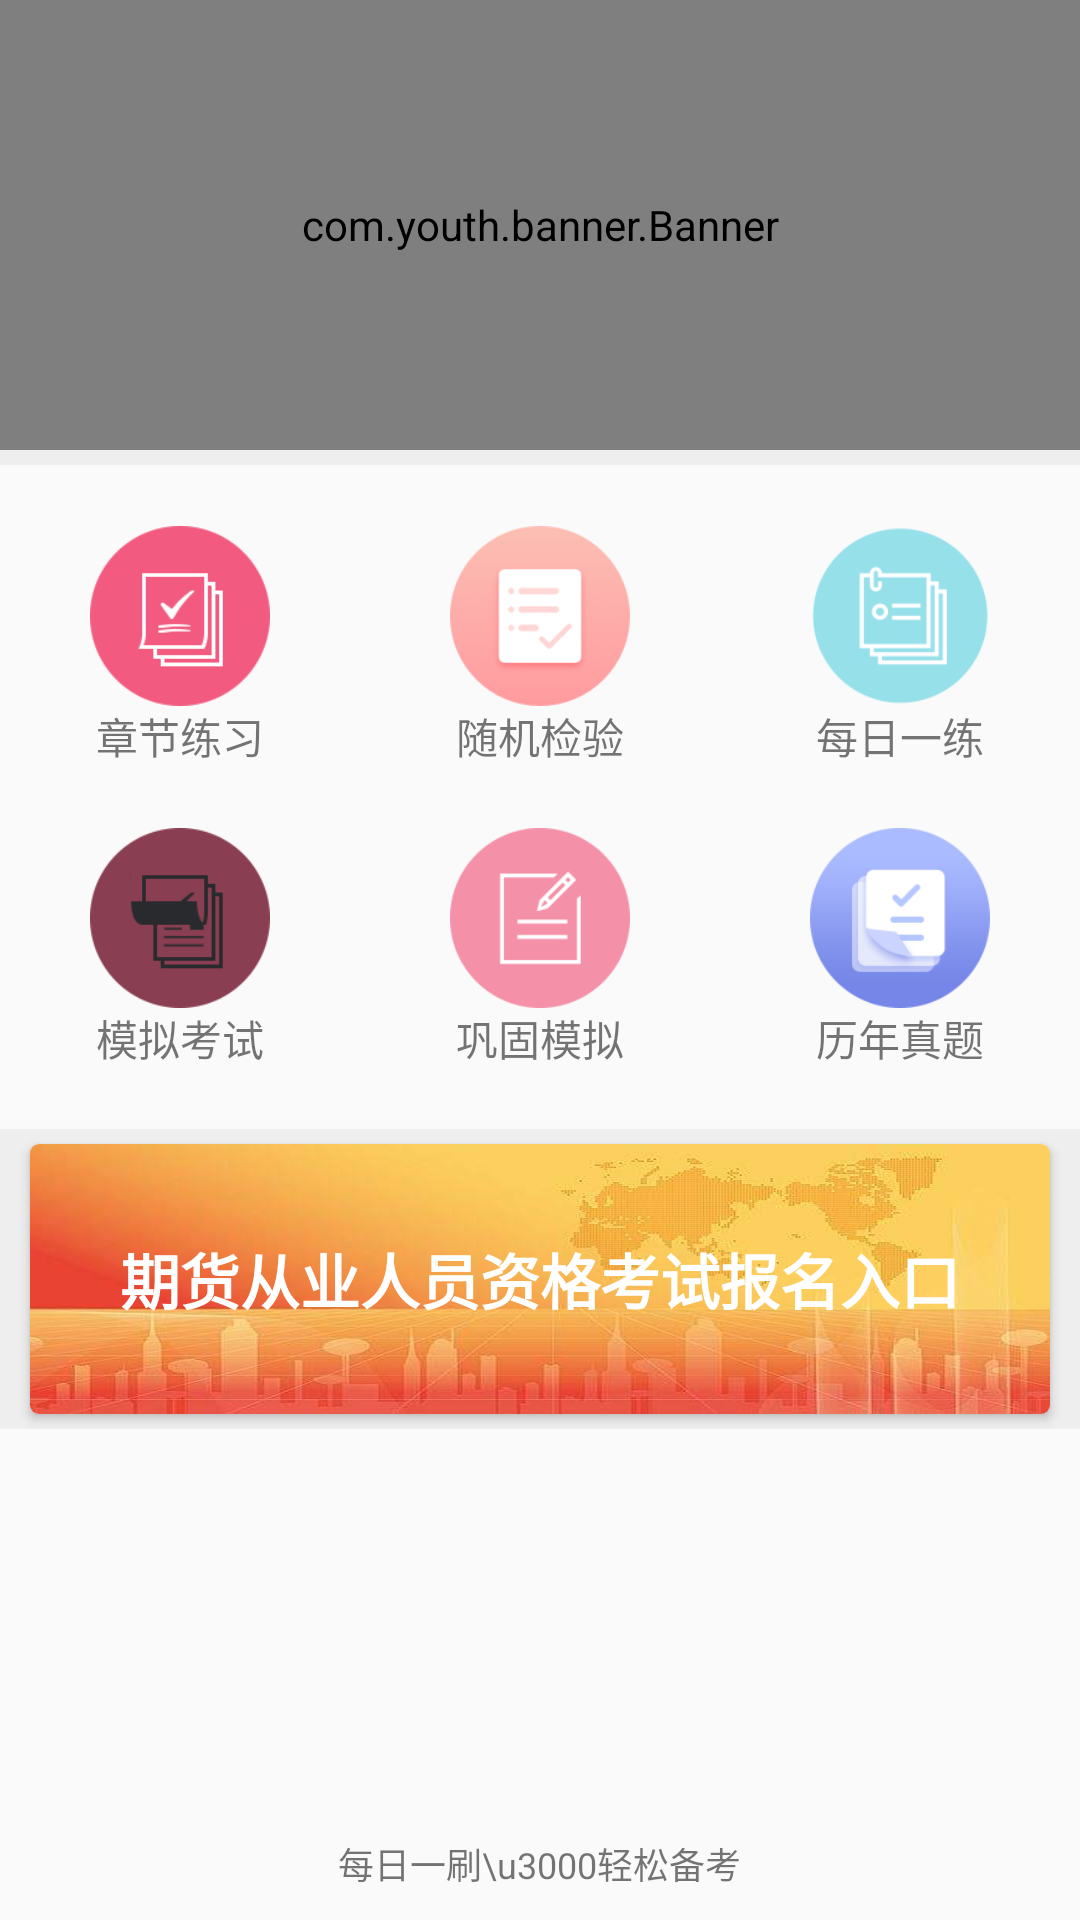

Screen size 1080w x 1920h. Icon name, then its center in pixels as (x,y):
study note: (540,918)
